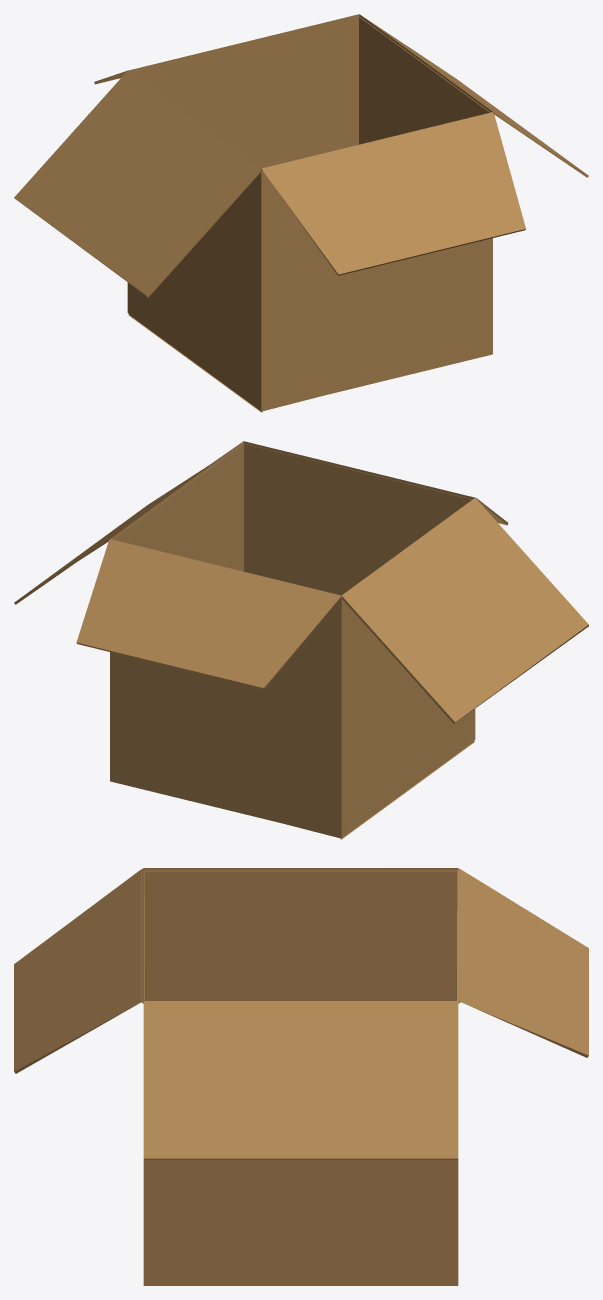
File: cardboardboxopen.glb
3 views of the same model, one above another, from view 1: azimuth 30°, elevation 25°; view 2: azimuth 150°, elevation 25°; view 3: azimuth 270°, elevation 25° (orthographic). The views are drawn at different scales.
Parts seen in each view (by area): view 1: Cube; view 2: Cube; view 3: Cube.
Part boxes in pixels (x1,y1,x2,y2): Cube: (14,14,588,412); Cube: (14,441,588,839); Cube: (14,868,588,1285).
Bounding box in the file's own units: 3.81 × 2.02 × 3.66.
